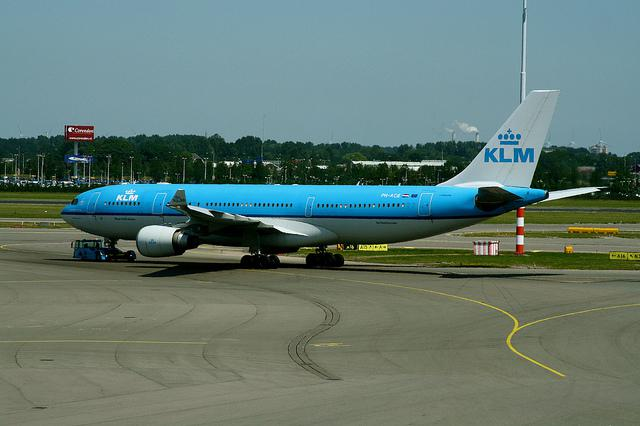Airplane: (58, 89, 564, 260)
